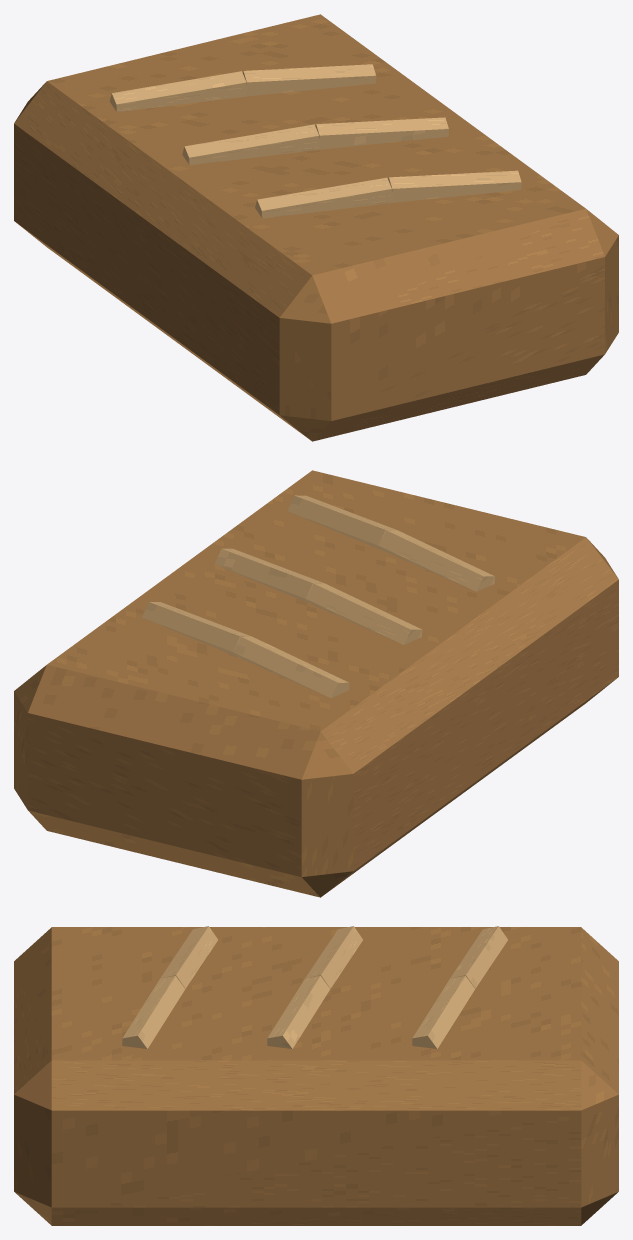
File: frybread.glb
3 renders of one model, top to bottom at view 1: azimuth 30°, elevation 25°; view 2: azimuth 150°, elevation 25°; view 3: azimuth 270°, elevation 25°, orthographic.
Parts seen in each view (by area): view 1: block_baked crust, block_scored seam 1 0, block_scored seam 0 0, block_scored seam -1 0, block_scored seam -1 1, block_scored seam 0 1, block_scored seam 1 1; view 2: block_baked crust, block_scored seam 0 0, block_scored seam -1 0, block_scored seam 1 0, block_scored seam 1 1, block_scored seam 0 1, block_scored seam -1 1; view 3: block_baked crust, block_scored seam 1 1, block_scored seam 0 1, block_scored seam -1 1, block_scored seam 0 0, block_scored seam -1 0, block_scored seam 1 0.
Part boxes in pixels (bbox=[...]): block_baked crust: bbox=[14, 14, 618, 441]; block_scored seam 1 0: bbox=[255, 177, 392, 218]; block_scored seam 0 0: bbox=[182, 124, 319, 165]; block_scored seam -1 0: bbox=[109, 71, 246, 111]; block_scored seam -1 1: bbox=[243, 64, 376, 96]; block_scored seam 0 1: bbox=[315, 117, 448, 149]; block_scored seam 1 1: bbox=[388, 170, 521, 202]; block_baked crust: bbox=[14, 470, 618, 897]; block_scored seam 0 0: bbox=[306, 583, 422, 644]; block_scored seam -1 0: bbox=[234, 636, 349, 697]; block_scored seam 1 0: bbox=[379, 530, 494, 591]; block_scored seam 1 1: bbox=[287, 495, 396, 549]; block_scored seam 0 1: bbox=[215, 548, 323, 603]; block_scored seam -1 1: bbox=[142, 602, 251, 656]; block_baked crust: bbox=[14, 927, 618, 1225]; block_scored seam 1 1: bbox=[122, 976, 185, 1048]; block_scored seam 0 1: bbox=[267, 976, 330, 1048]; block_scored seam -1 1: bbox=[412, 976, 474, 1048]; block_scored seam 0 0: bbox=[305, 926, 362, 988]; block_scored seam -1 0: bbox=[450, 926, 507, 988]; block_scored seam 1 0: bbox=[160, 926, 217, 988].
Size of the model in its own units: 0.0445 by 0.0232 by 0.0689.
Materials: 1 (1 with a texture image).
